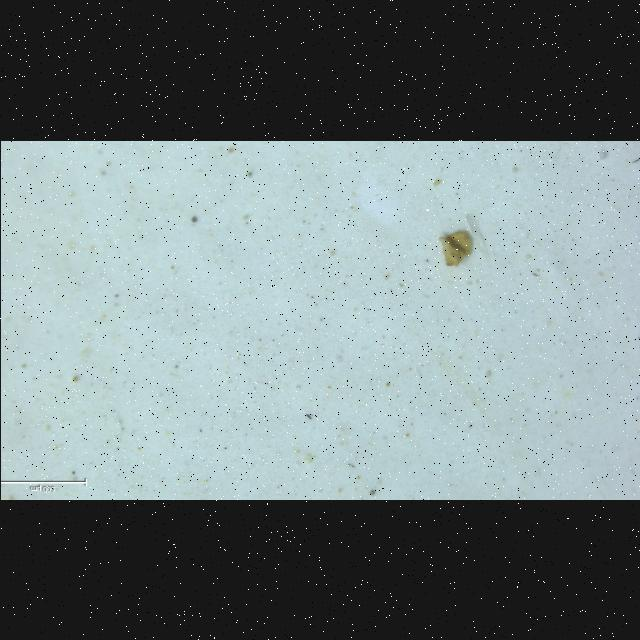Fibre: (465, 213, 489, 258)
Fragment: (438, 231, 471, 266)
